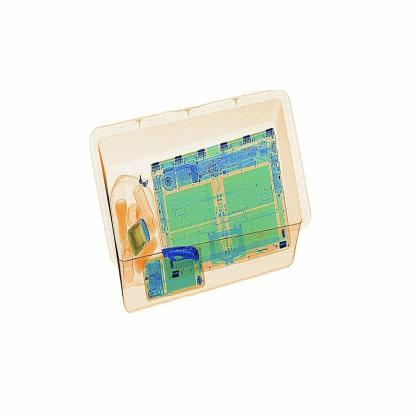knife: (154, 236, 209, 275)
